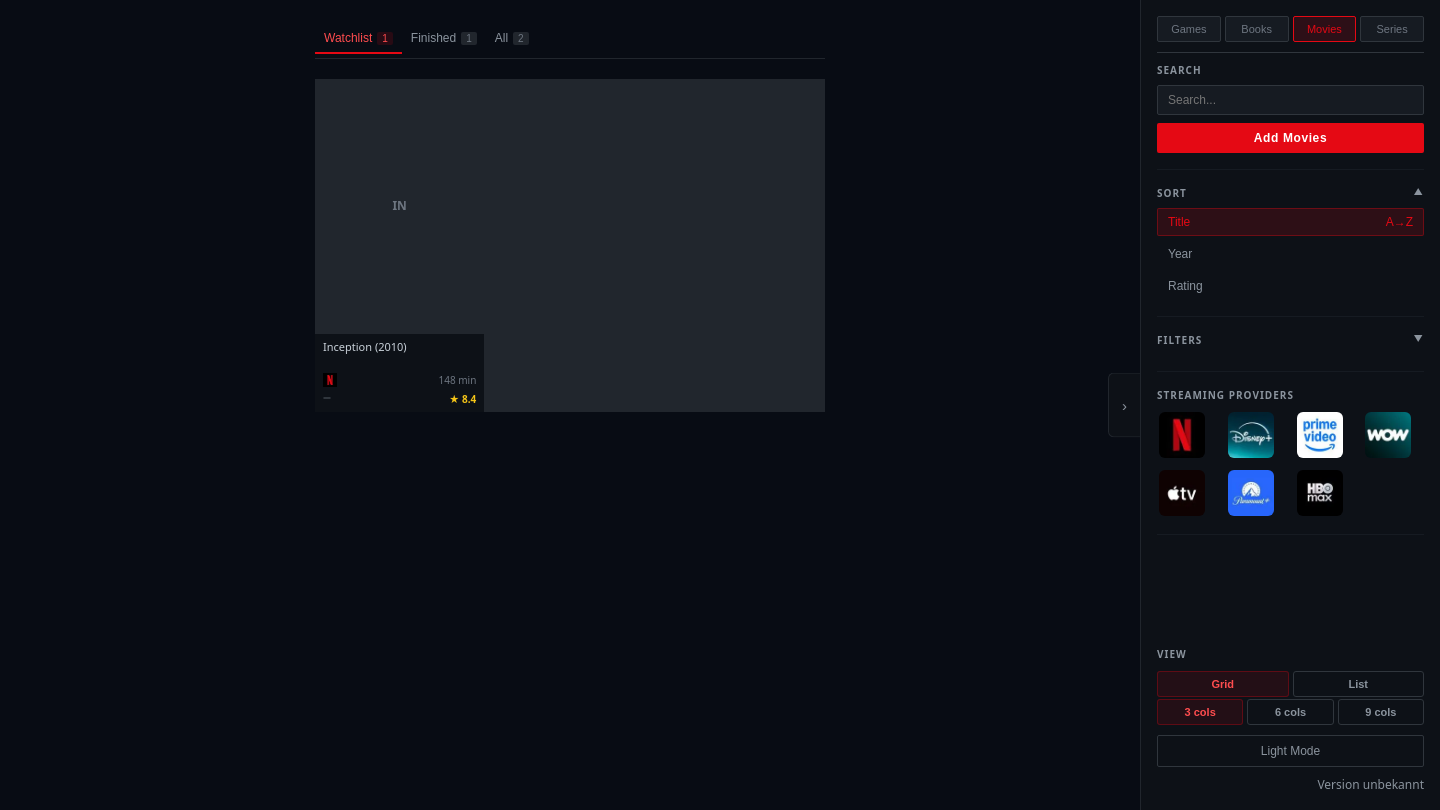
MovieList – Tabs & Filter › Finished-Tab zeigt abgeschlossene Filme
Click the button with class "tab" showing "Finished 1": (444, 39) [402,24,486,54]
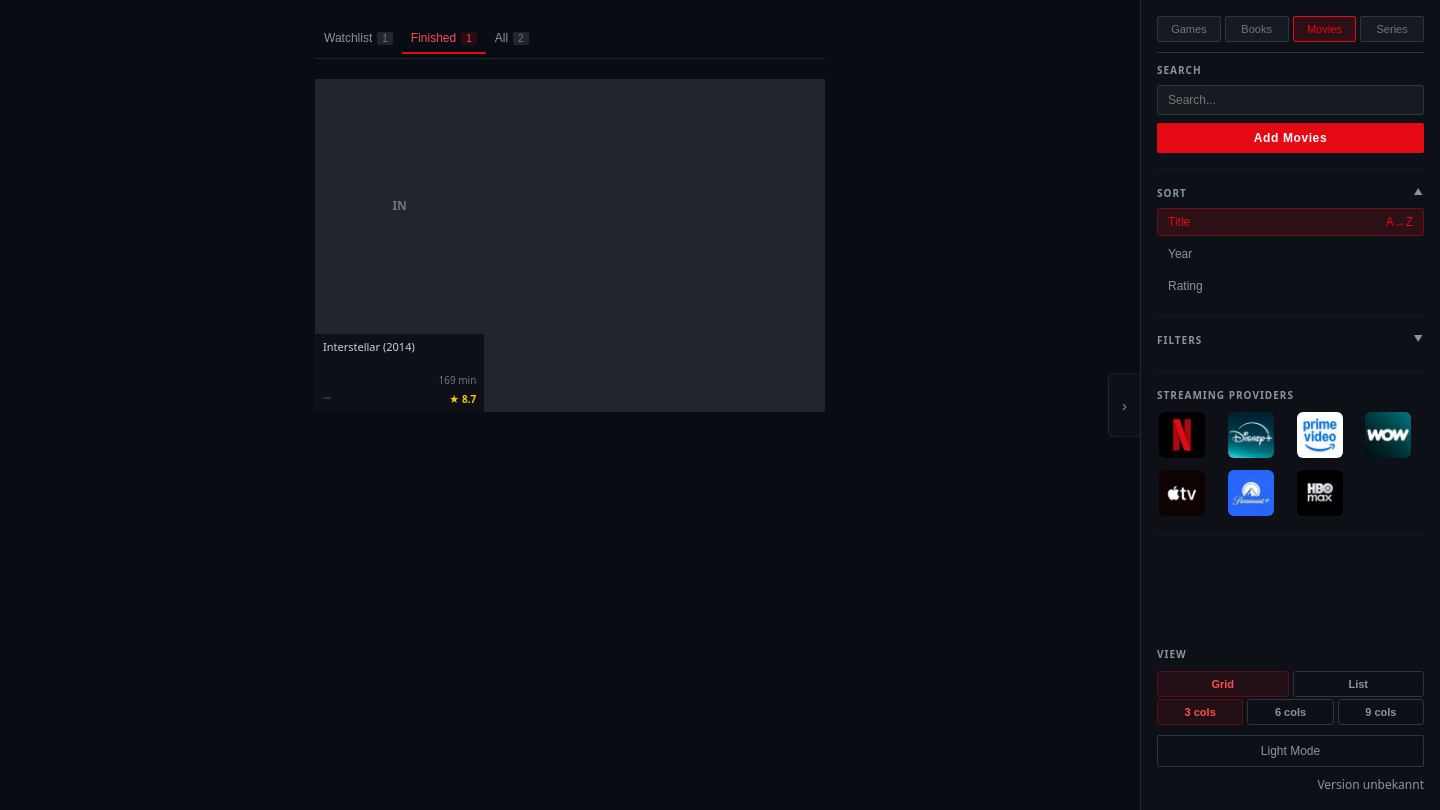
Expected: the text "Interstellar" is shown, [323,339,380,354]
Expected: the text "Inception" is gone
